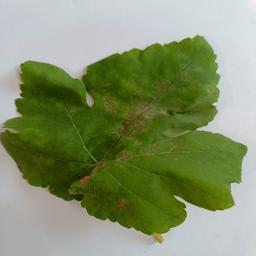Powdery-Mildew: (158, 64, 205, 96), (97, 84, 120, 113), (19, 128, 45, 145), (144, 148, 157, 160), (116, 152, 128, 165), (118, 199, 130, 211)
